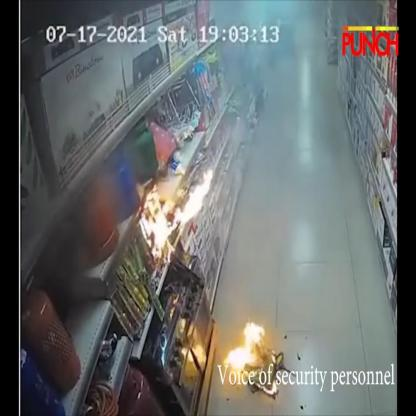fire: (142, 169, 213, 259), (223, 323, 264, 366)
